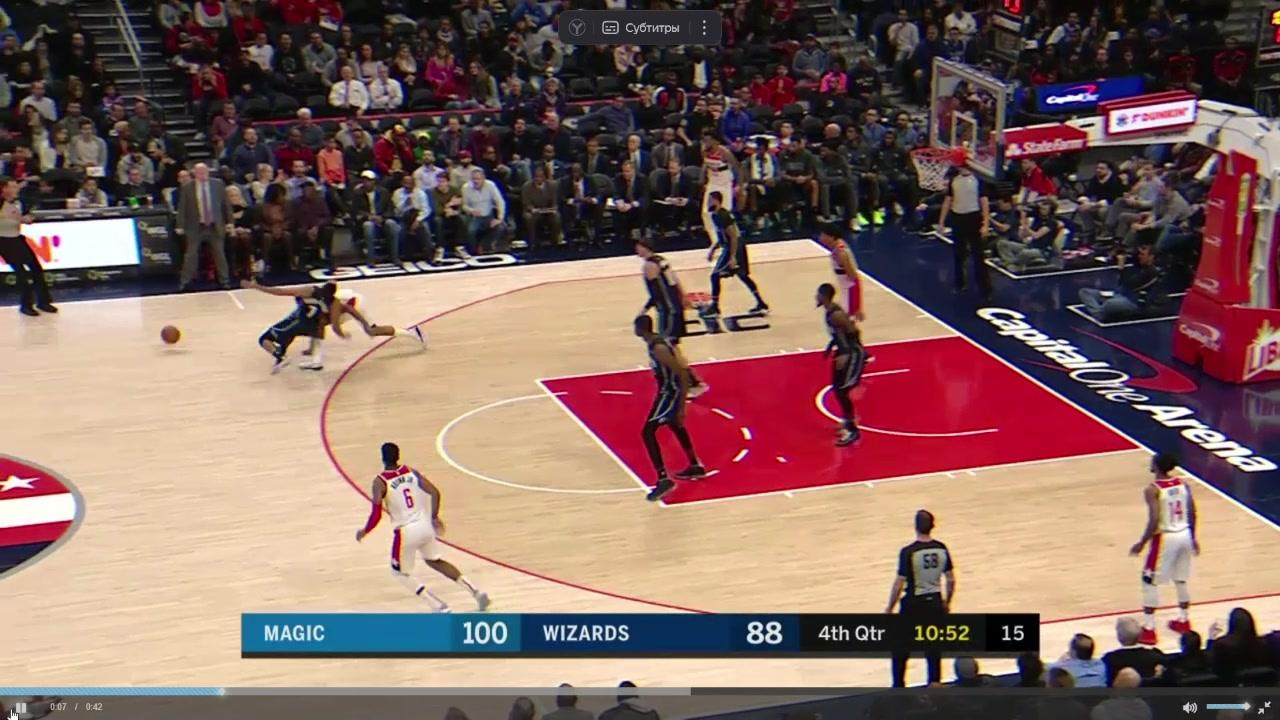foul: (220, 260, 445, 373)
